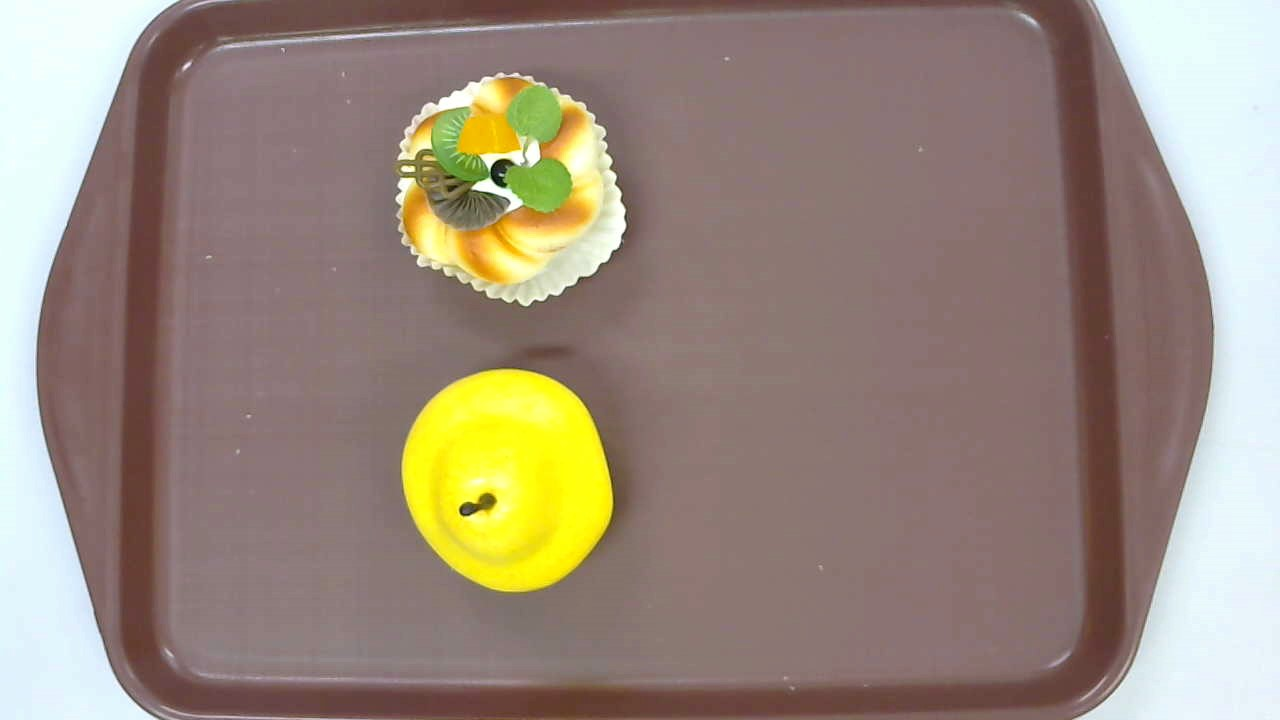fruit tart: (393, 72, 628, 308)
yellow pear: (400, 368, 613, 592)
